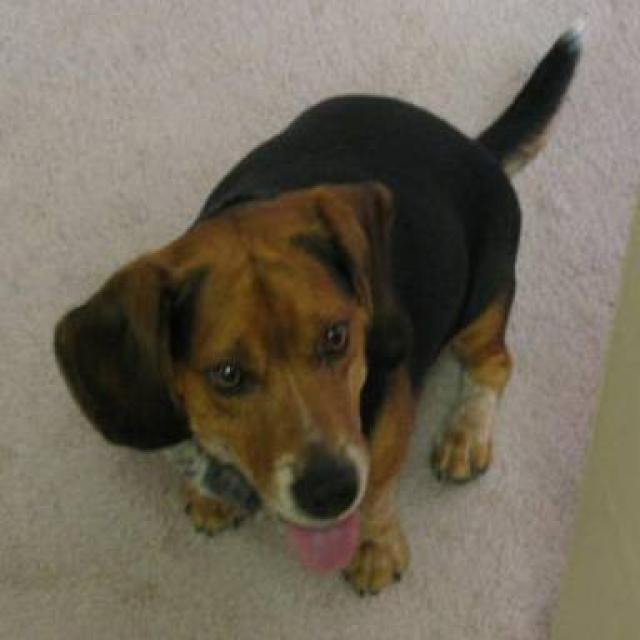dog: (52, 21, 585, 597)
